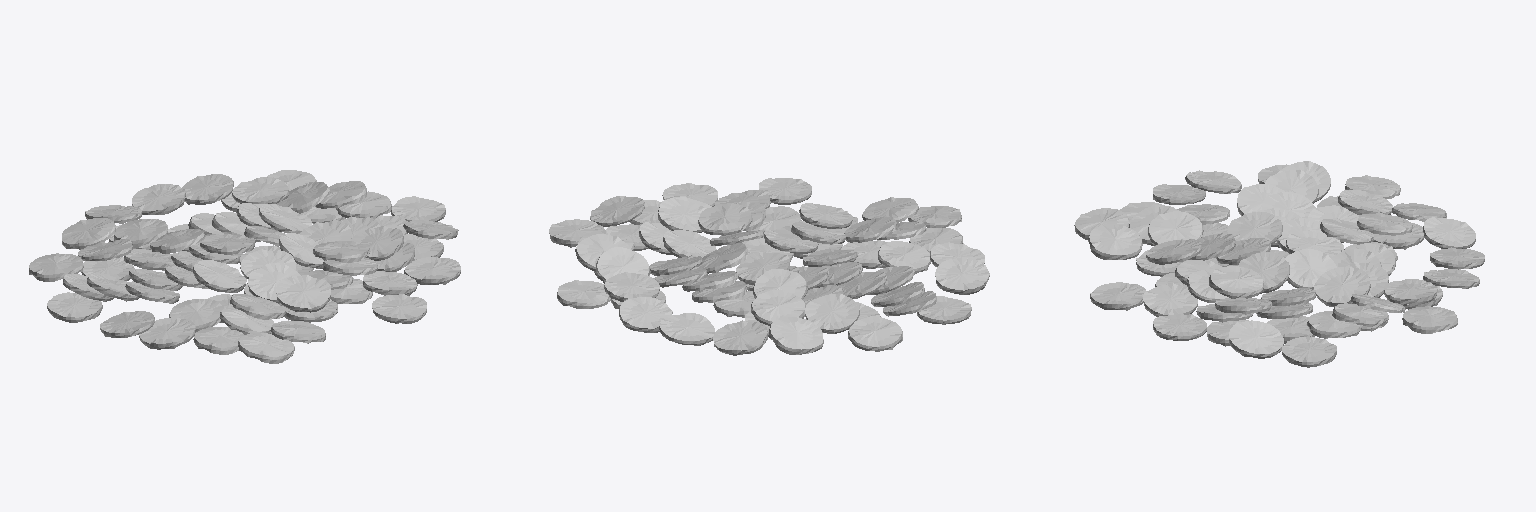
Rendered from goldenCoin.obj.
3 renders of one model, left to right at view 1: azimuth 30°, elevation 25°; view 2: azimuth 150°, elevation 25°; view 3: azimuth 270°, elevation 25°, orthographic.
Visible parts, largest first — view 1: Coins_Coin_0; view 2: Coins_Coin_0; view 3: Coins_Coin_0.
Boxes of the visible parts, box(x1,y1,x2,y2) form: Coins_Coin_0: box(29, 170, 460, 363); Coins_Coin_0: box(549, 178, 989, 355); Coins_Coin_0: box(1074, 161, 1484, 367).
Bounding box in the file's own units: 0.386 × 0.0251 × 0.3399.